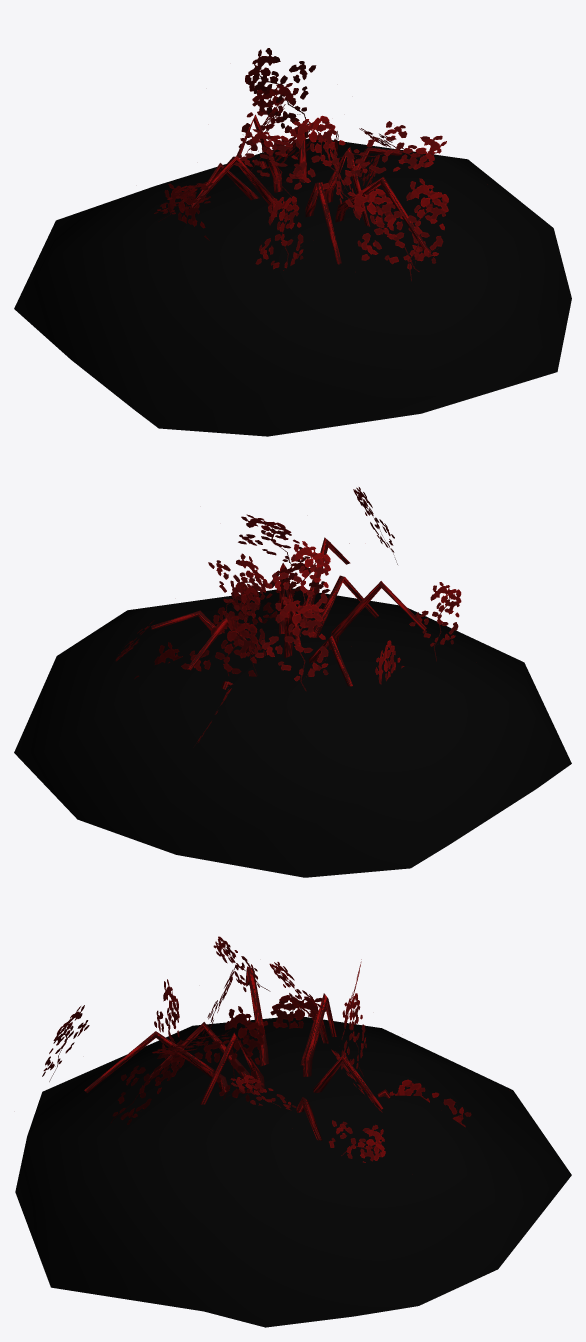
The model's file is bush_snowcap_shrub_a.glb.
The picture shows the model from 3 angles, top to bottom: view 1: azimuth 30°, elevation 25°; view 2: azimuth 150°, elevation 25°; view 3: azimuth 270°, elevation 25°; orthographic projection. The views are drawn at different scales.
Visible parts, largest first — view 1: bush_snowcap_shrub_a; view 2: bush_snowcap_shrub_a; view 3: bush_snowcap_shrub_a.
Part boxes in pixels (bbox=[...]): bush_snowcap_shrub_a: bbox=[14, 48, 571, 436]; bush_snowcap_shrub_a: bbox=[14, 487, 571, 877]; bush_snowcap_shrub_a: bbox=[15, 936, 571, 1327].
Bounding box in the file's own units: 1.58 × 0.9225 × 1.59.
1 material, 1 textured.
